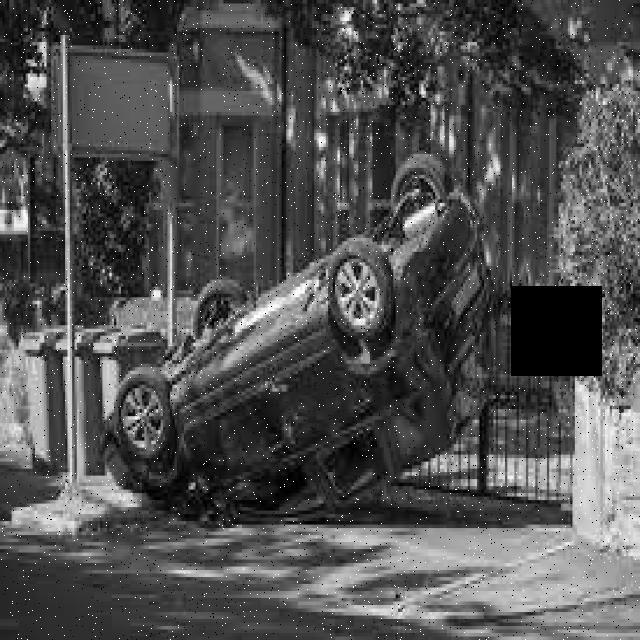single accident: (90, 162, 527, 543)
